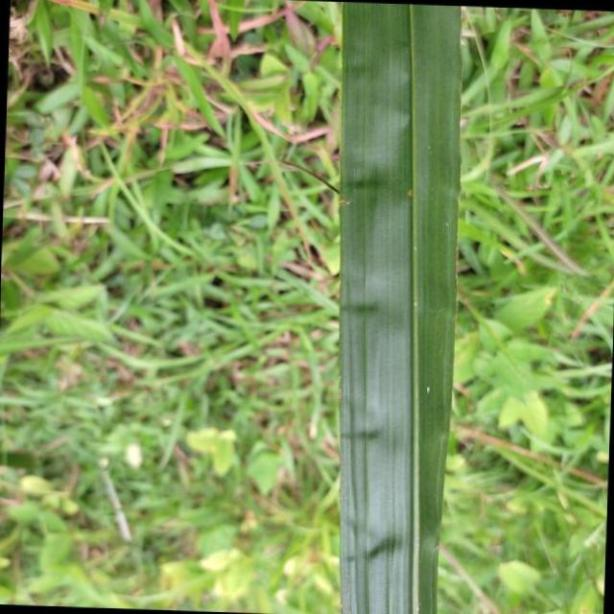Boron: (342, 0, 457, 614)
